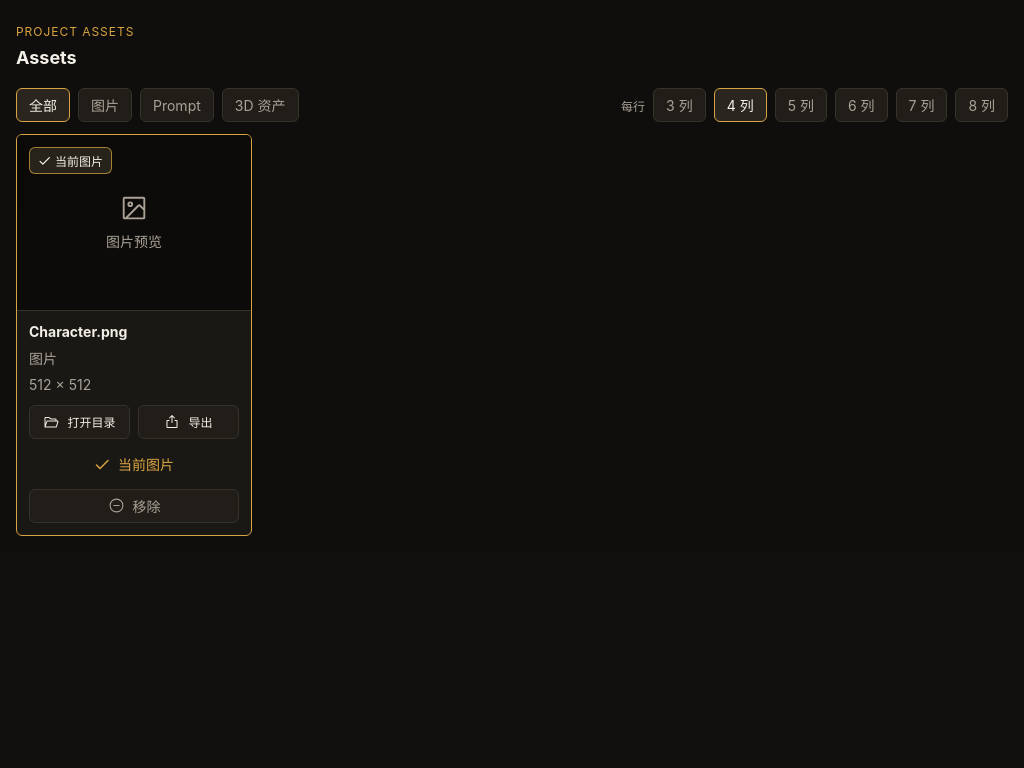
Scenario: AssetBrowser › reviews impact before removing the asset and its local file to project trash
This screenshot has width=1024, height=768.
Expected: the heading "Character.png" is shown, [29, 322, 127, 340]
Click the button with aria-label "从资产库移除 Character.png" at (134, 506), box [29, 488, 239, 522]
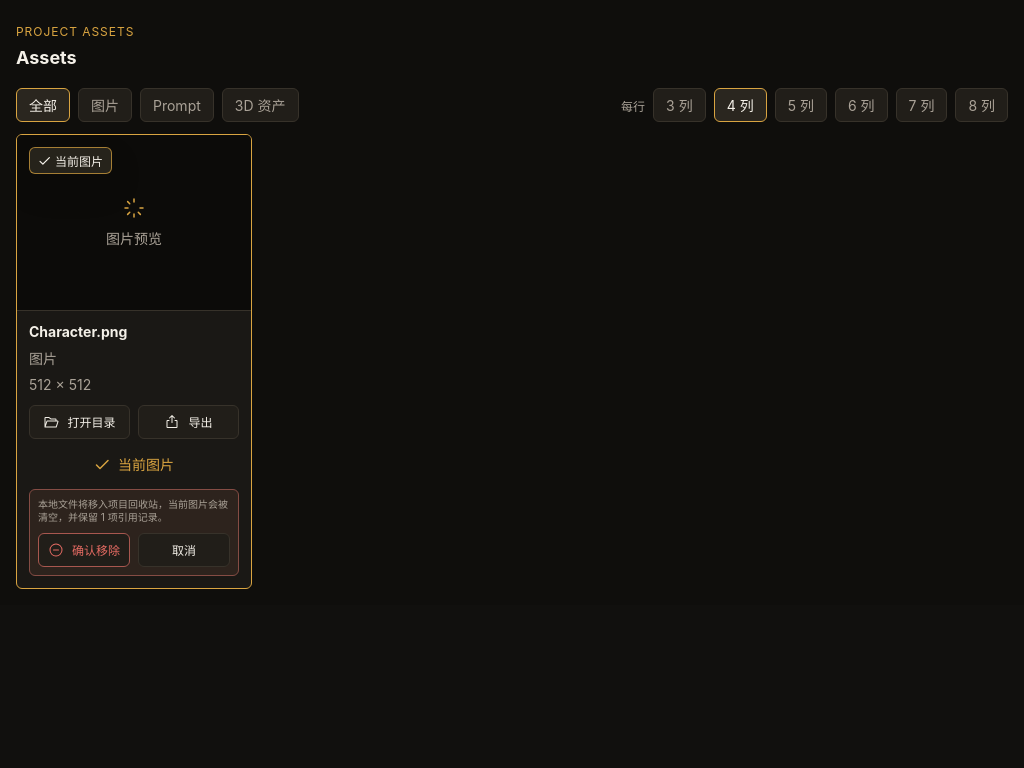
Expected: the text "本地文件将移入项目回收站，当前图片会被清空，并保留 1 项引用记录。" is shown, [38, 498, 230, 524]
Click the button "确认移除" at (84, 550), box [38, 532, 130, 566]
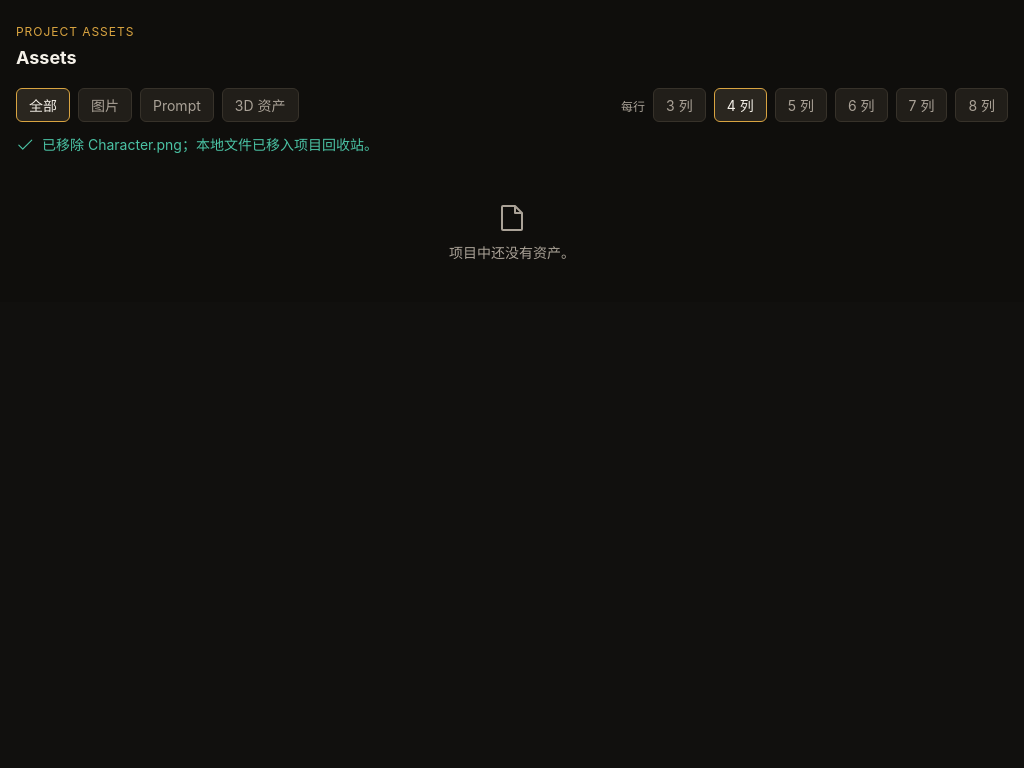
Expected: the text "已移除 Character.png；本地文件已移入项目回收站。" is shown, [16, 135, 378, 153]
